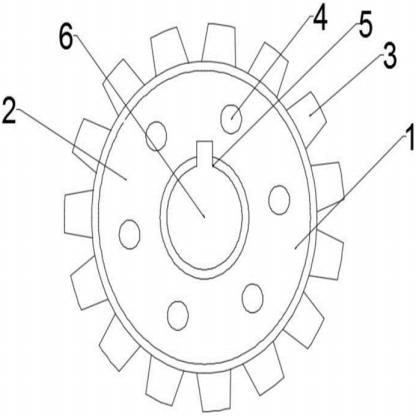FOD: (61, 12, 348, 415)
